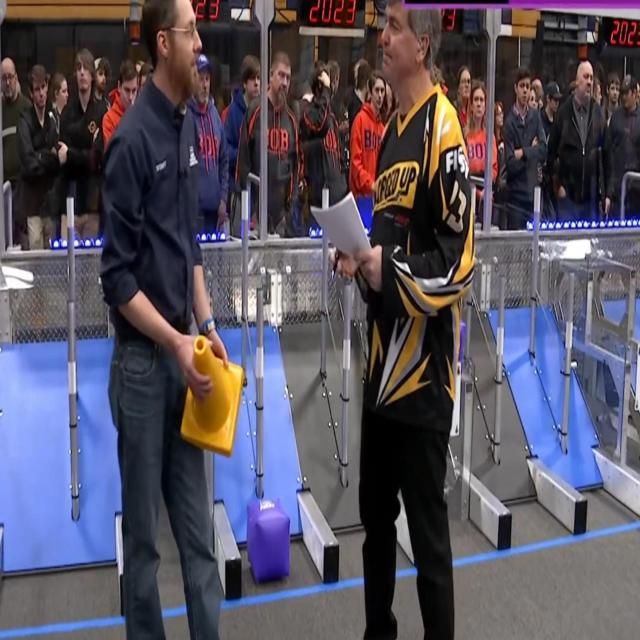frc_cone: (180, 336, 244, 460)
frc_cube: (245, 501, 289, 582), (460, 320, 466, 360)
